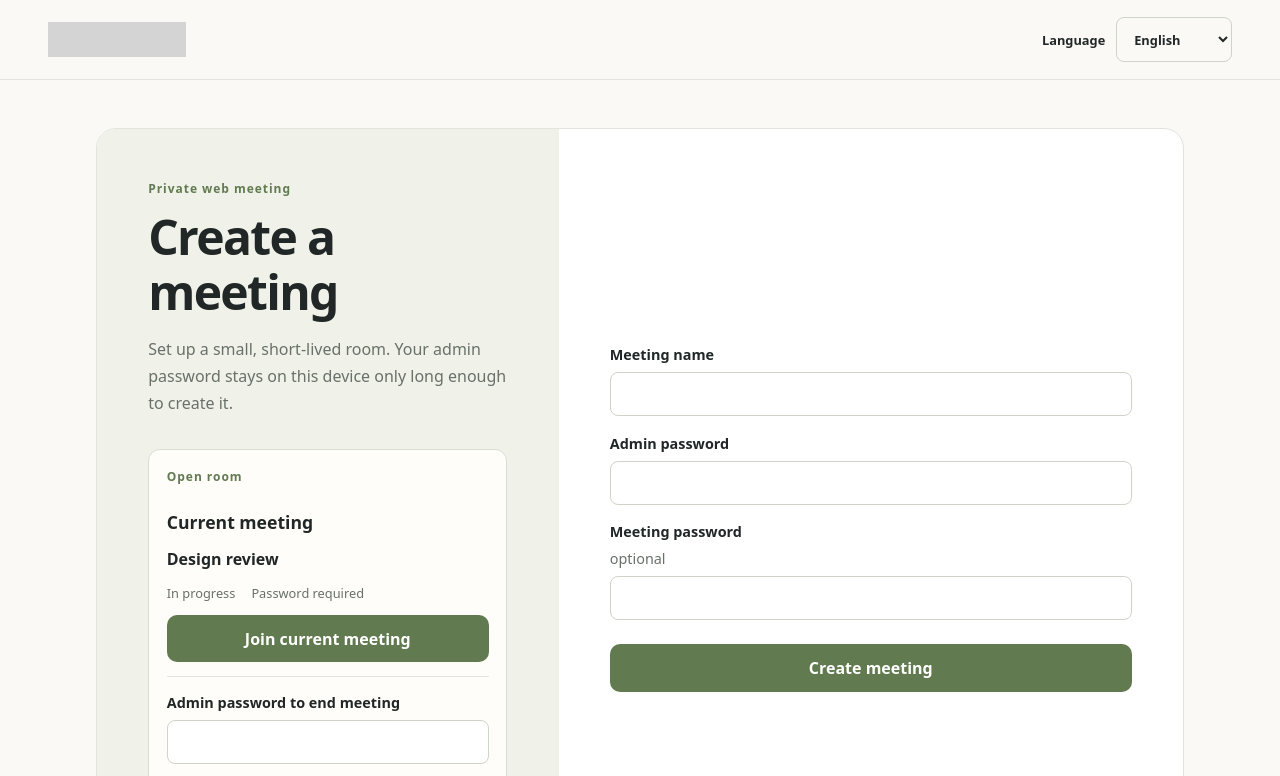
Test case: meeting creation › shows the public current meeting and ends it with an in-memory admin password
The image size is (1280, 776).
Check: the heading "Current meeting" is shown, box [167,510,313,534]
Type "admin-secret" into the password field labelled "Admin password to end meeting" at (328, 742), box [167,720,489,764]
(page scrolled)
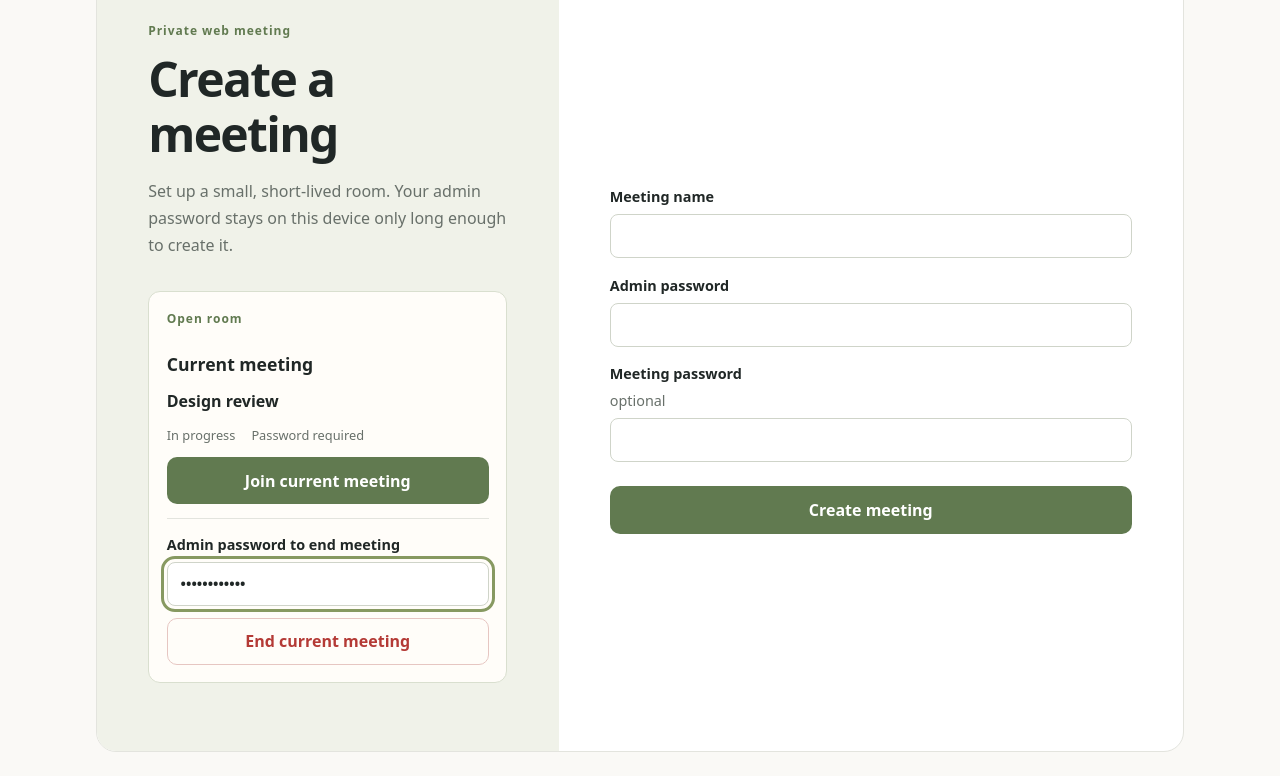
Click the button "End current meeting" at (328, 641), box [167,618,489,665]
(page scrolled)
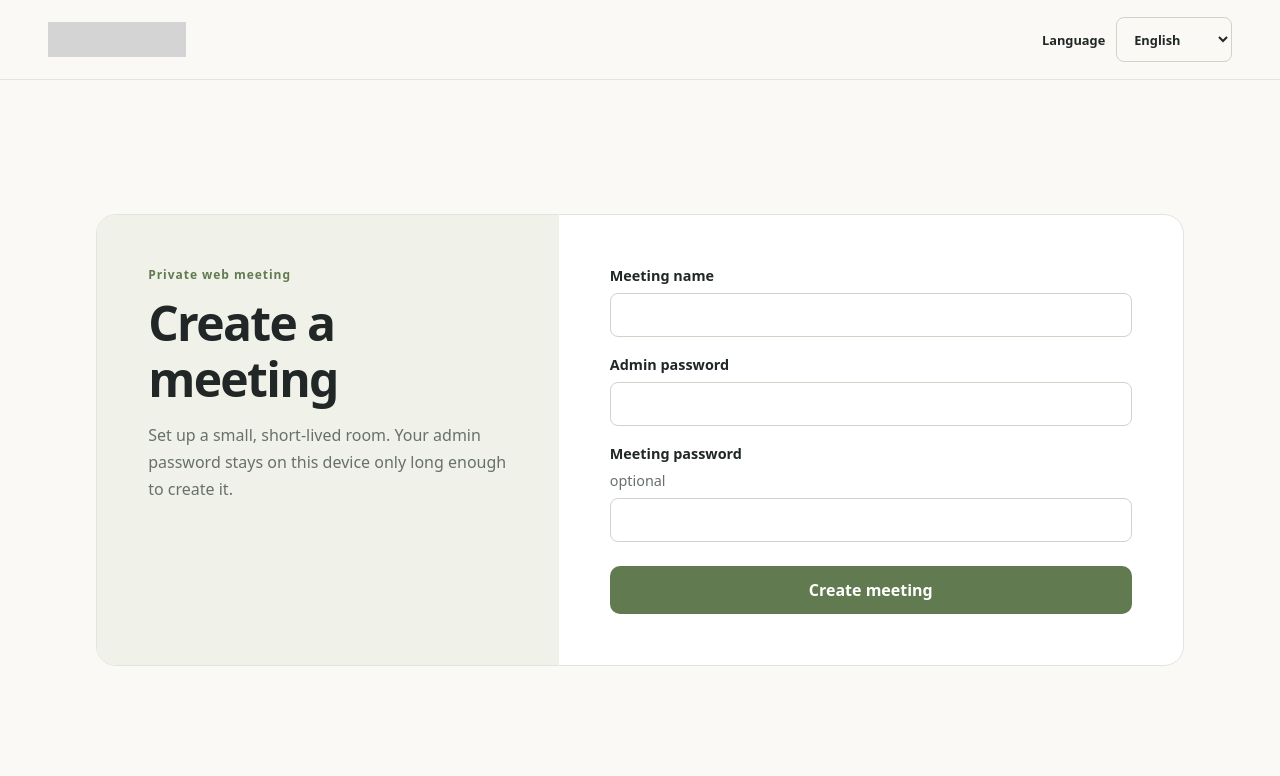
Check: the heading "Current meeting" is gone
